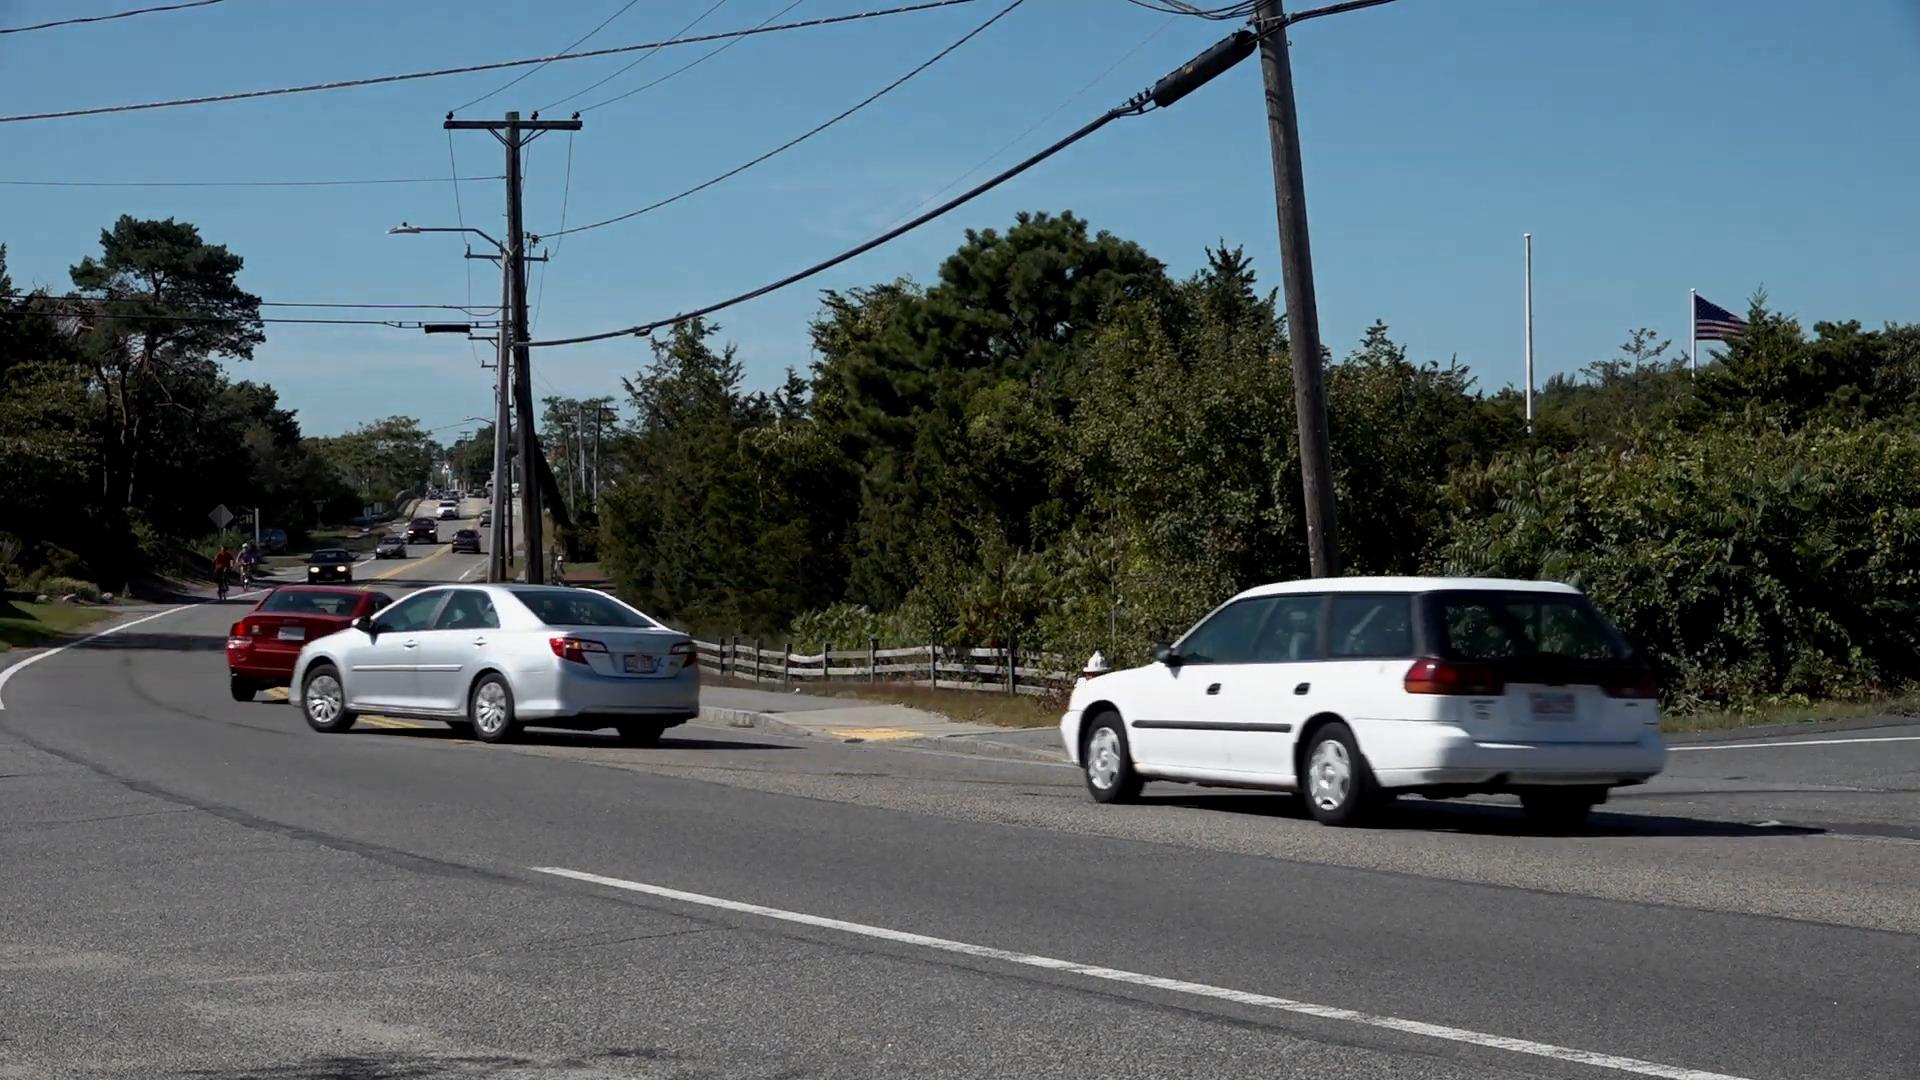sedans: (293, 587, 705, 745), (232, 582, 393, 707)
suv: (1058, 577, 1672, 830)
